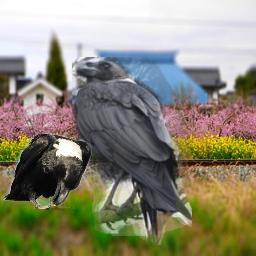Crow: (72, 57, 192, 245), (1, 131, 92, 212)
